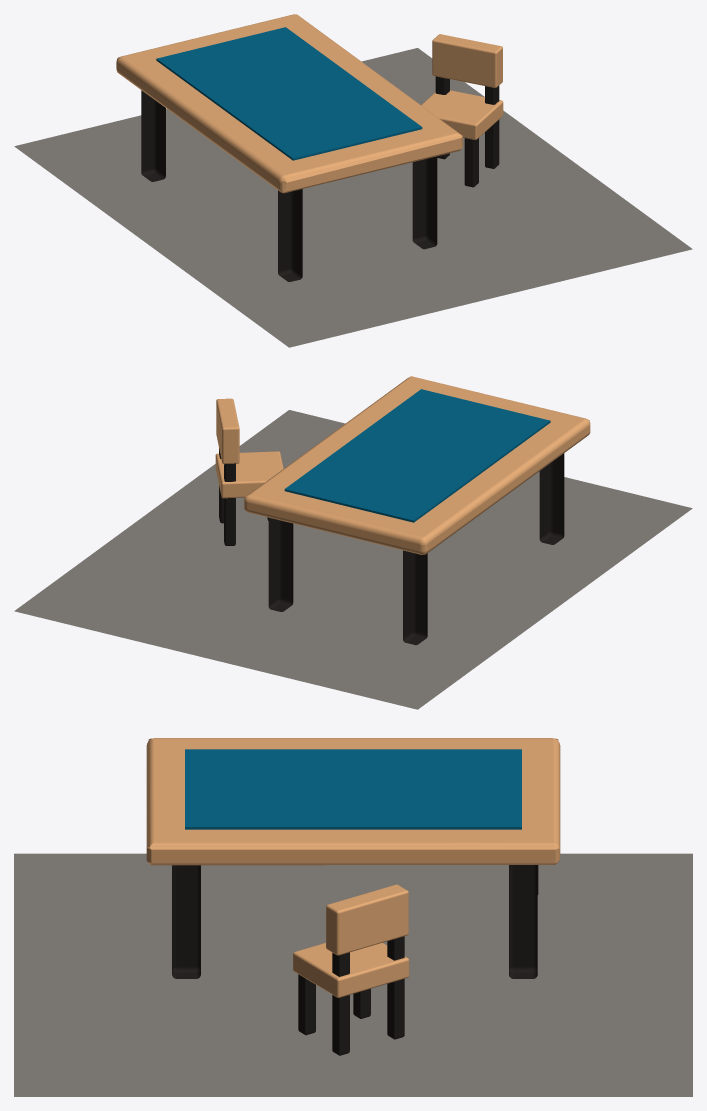
Rendered from MyDesk.glb.
3 renders of one model, top to bottom at view 1: azimuth 30°, elevation 25°; view 2: azimuth 150°, elevation 25°; view 3: azimuth 270°, elevation 25°, orthographic. The views are drawn at different scales.
Visible parts, largest first — view 1: Plane, Cube, Cube.006, Cube.005, Cube.001, Cube.002, Cube.004, Cube.008, Cube.010; view 2: Plane, Cube, Cube.003, Cube.004, Cube.002, Cube.005, Cube.006, Cube.007; view 3: Plane, Cube, Cube.006, Cube.005, Cube.001, Cube.003, Cube.008, Cube.007, Cube.010.
Boxes of the visible parts, x1,y1,x2,y2 form: Plane: [14, 48, 692, 347]; Cube: [116, 14, 462, 193]; Cube.006: [432, 34, 502, 87]; Cube.005: [421, 90, 503, 139]; Cube.001: [412, 156, 437, 249]; Cube.002: [278, 189, 302, 281]; Cube.004: [141, 90, 165, 181]; Cube.008: [485, 85, 499, 168]; Cube.010: [464, 138, 478, 187]; Plane: [14, 410, 692, 709]; Cube: [244, 376, 590, 554]; Cube.003: [268, 517, 293, 611]; Cube.004: [403, 550, 427, 645]; Cube.002: [539, 453, 564, 544]; Cube.005: [215, 451, 283, 498]; Cube.006: [216, 398, 239, 464]; Cube.007: [224, 463, 235, 545]; Plane: [14, 853, 692, 1096]; Cube: [146, 738, 560, 865]; Cube.006: [326, 884, 408, 955]; Cube.005: [293, 943, 409, 997]; Cube.001: [172, 865, 200, 978]; Cube.003: [509, 865, 537, 978]; Cube.008: [332, 952, 349, 1055]; Cube.007: [387, 936, 404, 1039]; Cube.010: [298, 974, 315, 1035].
Size of the model in its own units: 4.64 by 1.33 by 5.48.
